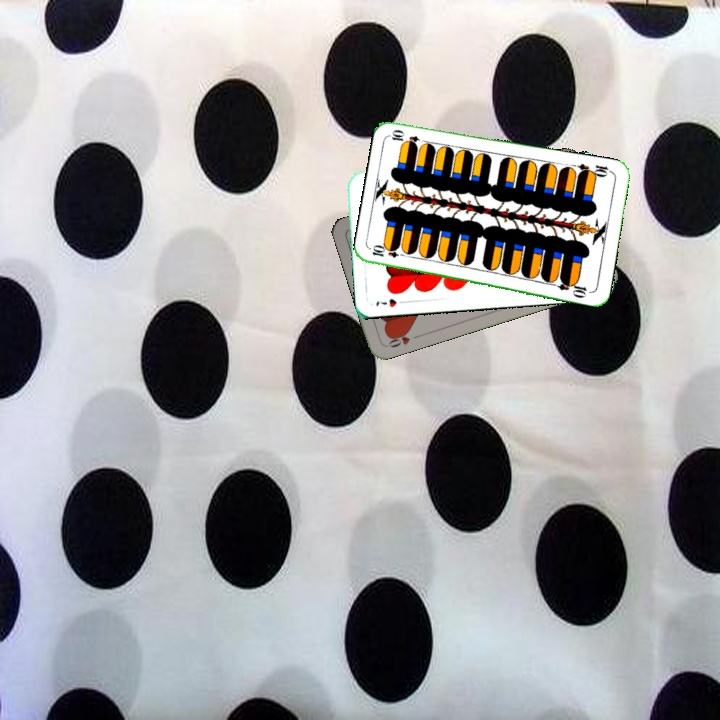E10: (574, 160, 614, 180), (368, 244, 409, 260)
H7: (372, 294, 410, 310)
HO: (384, 327, 422, 350)
